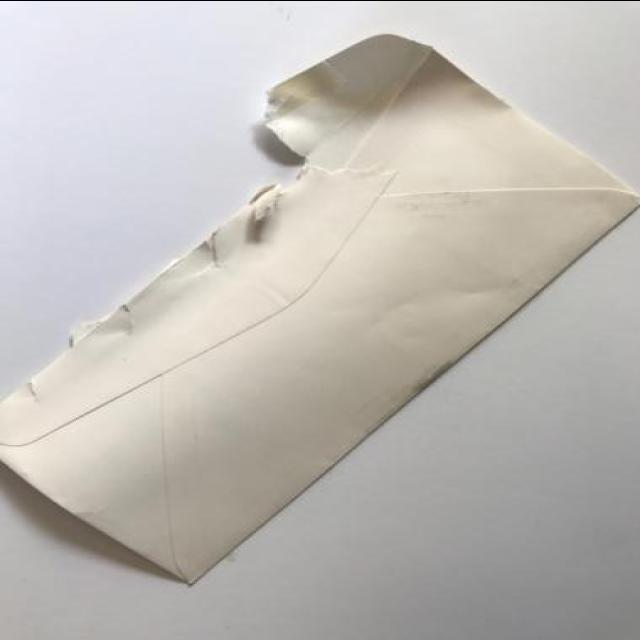kertas: (0, 28, 640, 583)
